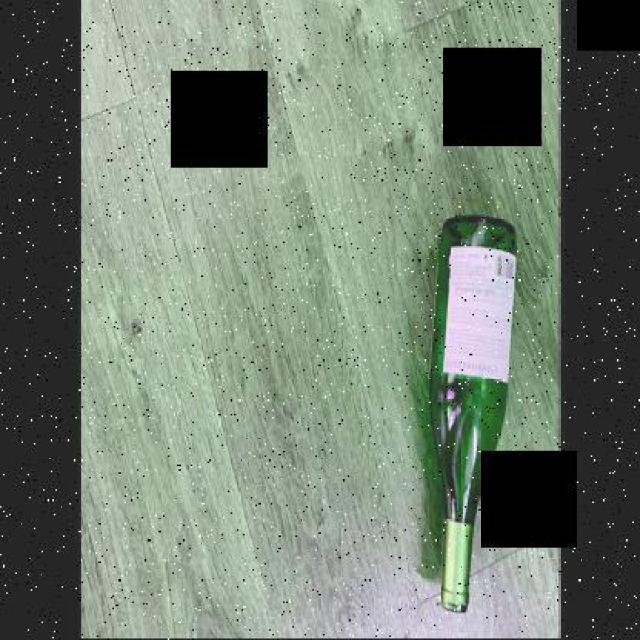glass: (425, 220, 521, 614)
